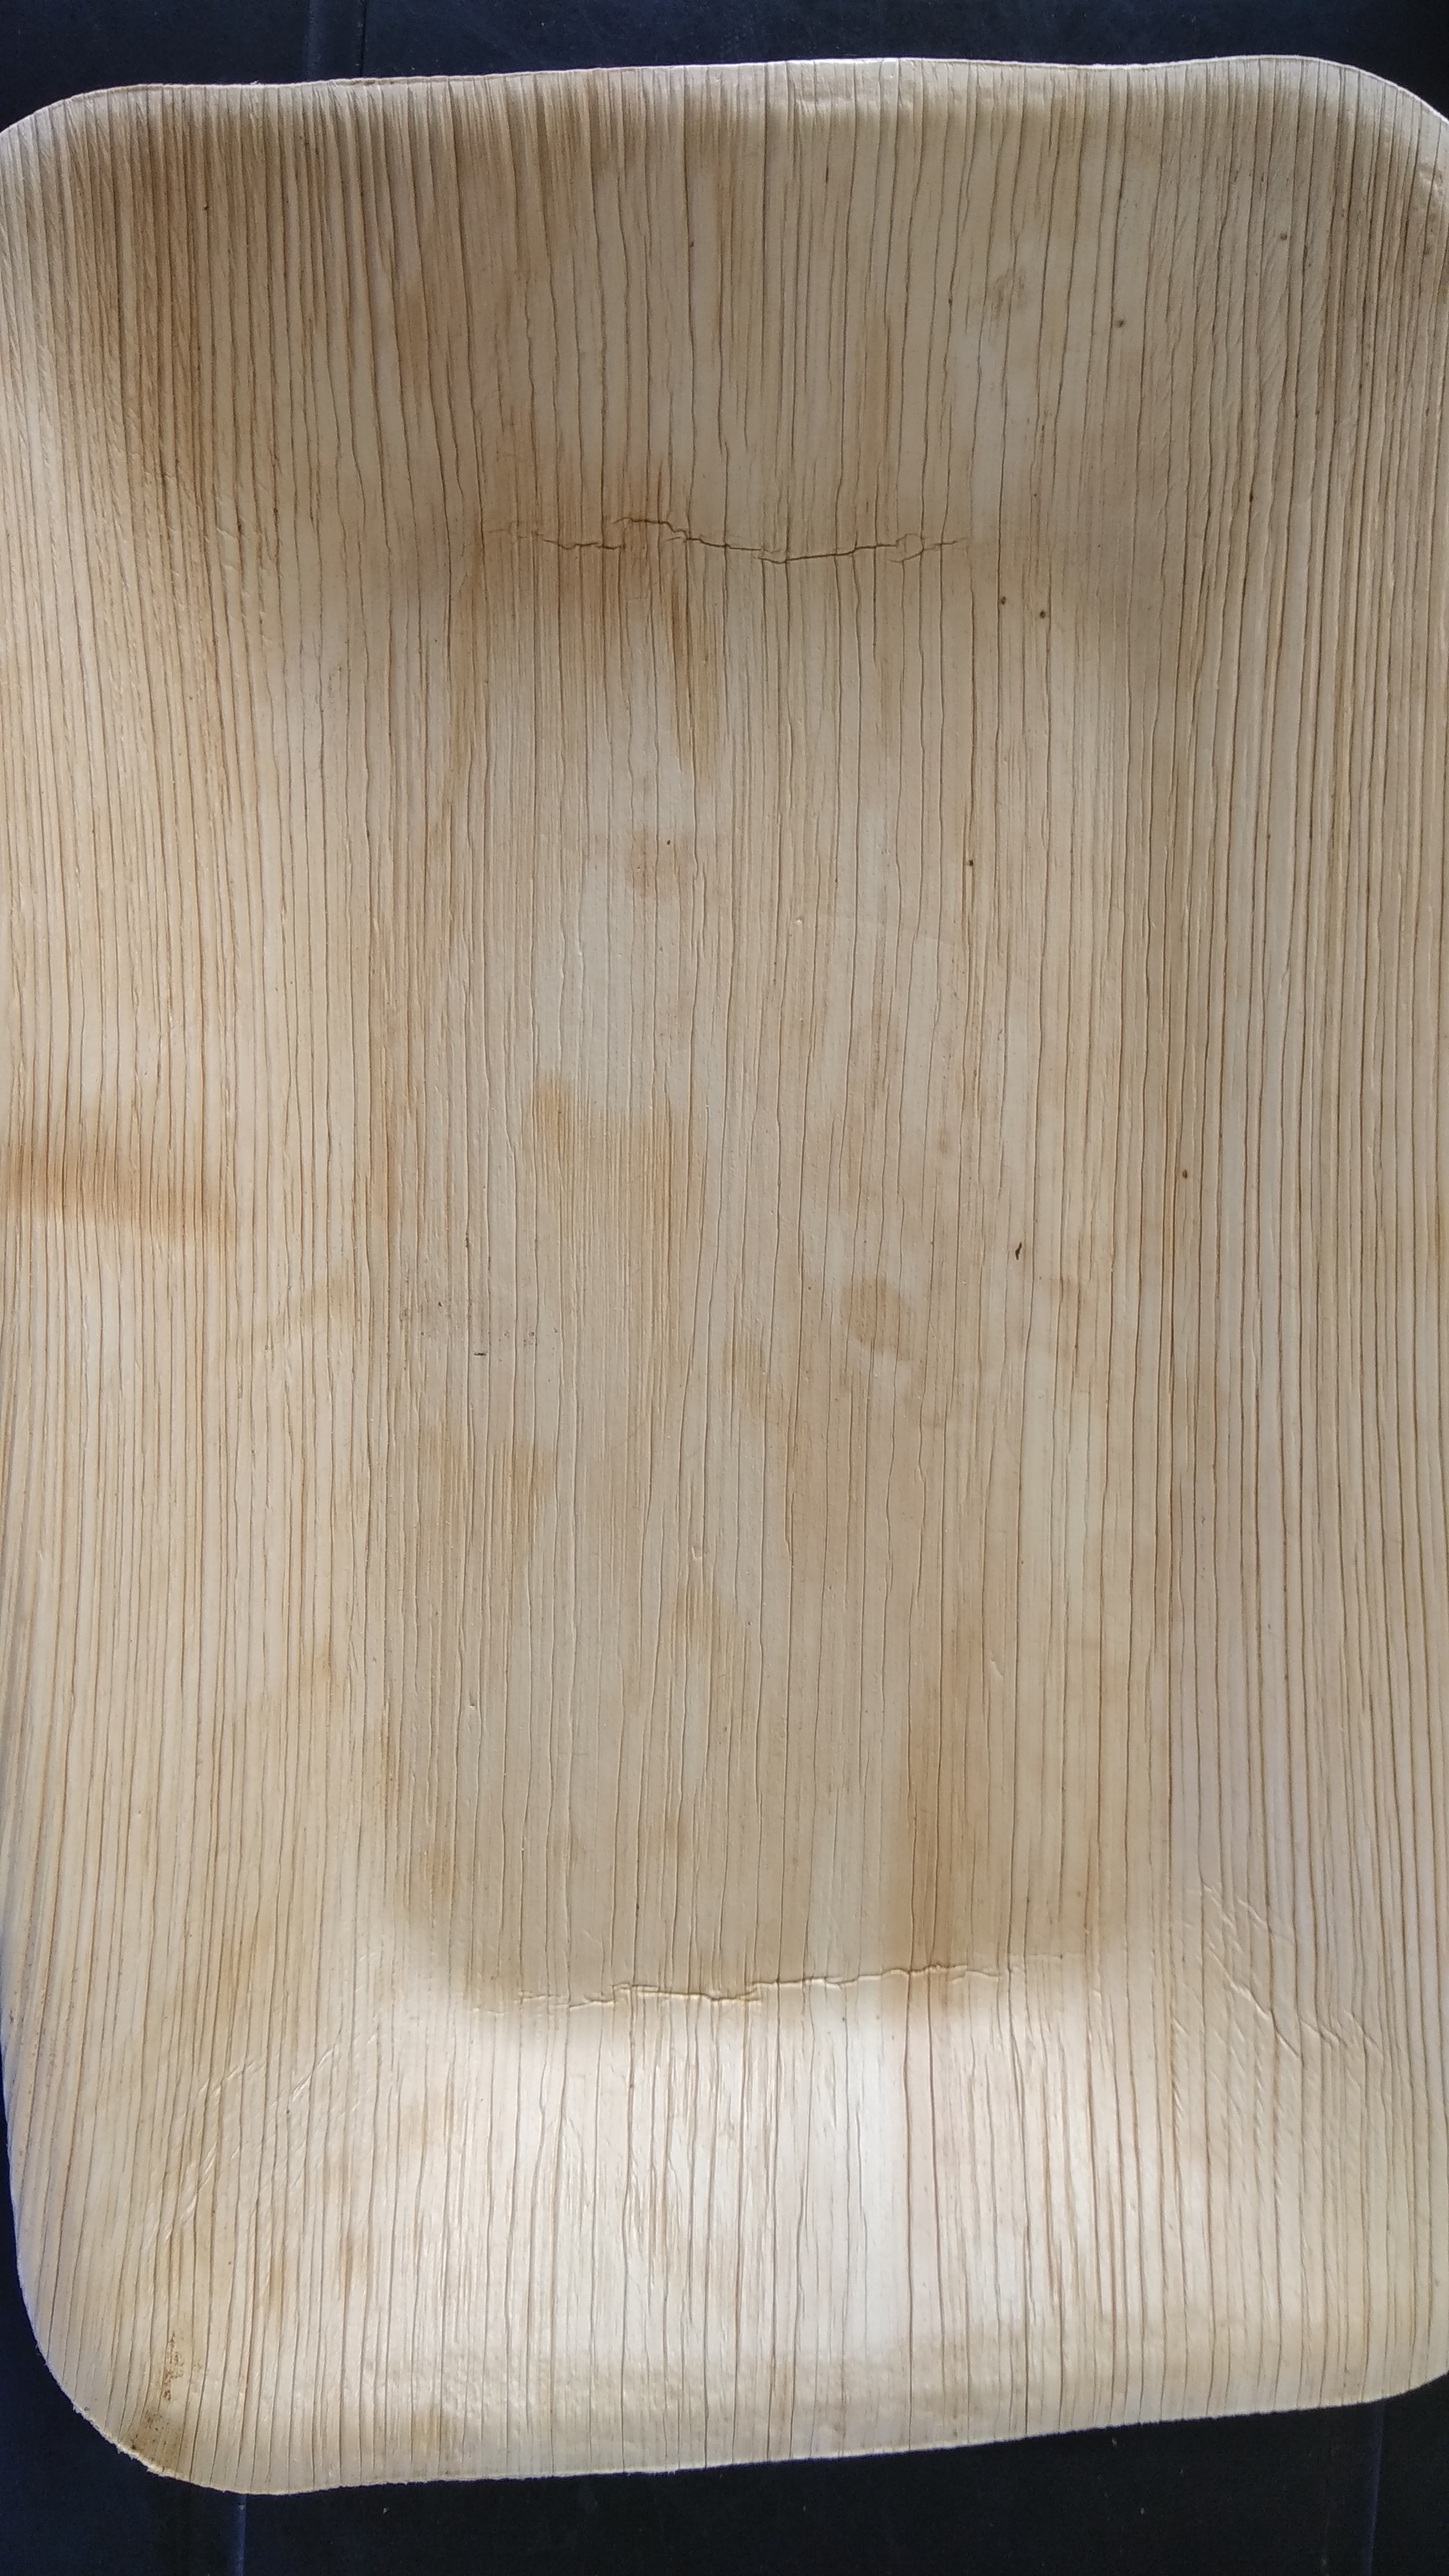areca plate: (16, 78, 1449, 2466)
